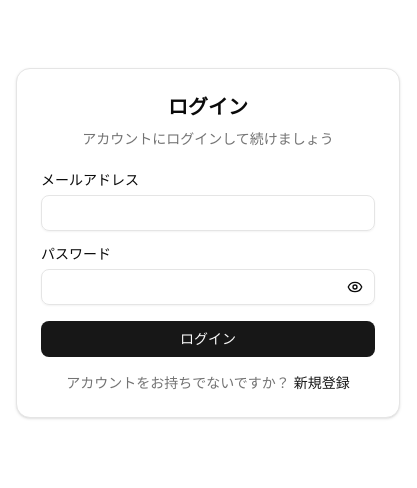
LoginPage › 誤った認証情報で API エラーを表示する
This screenshot has width=417, height=488.
Expected: the heading "ログイン" is shown, [168,96,248,118]
Type "wrong@example.com" into the field labelled "メールアドレス" at (208, 213), box [41,195,375,231]
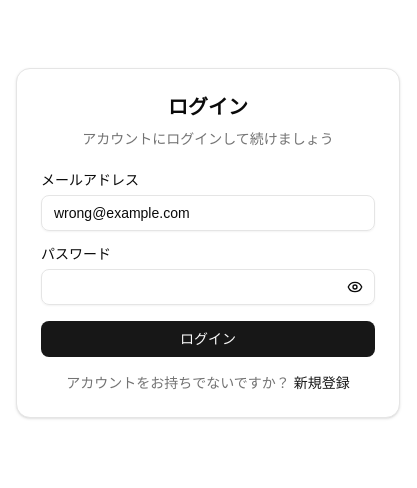
Type "wrongpassword" into the password field labelled "パスワード" at (208, 287), box [41,269,375,305]
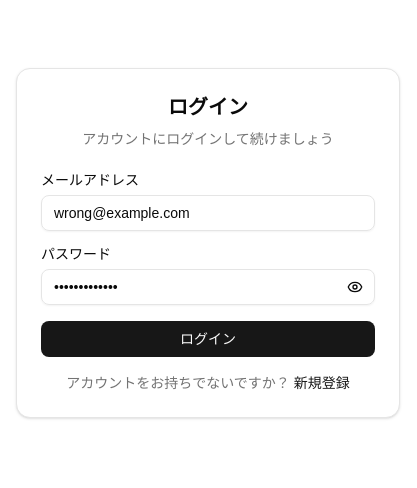
Click the button "ログイン" at (208, 339), box [41,321,375,357]
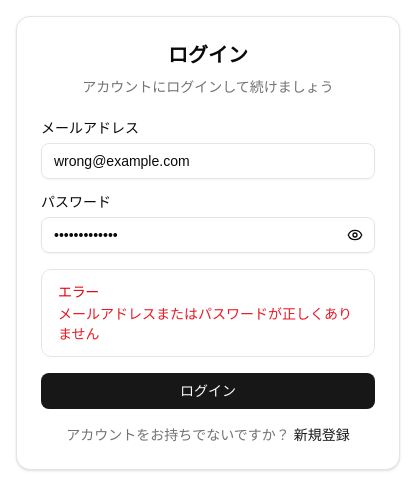
Result: the text "メールアドレスまたはパスワードが正しくありません" is shown at [58,304,358,344]
